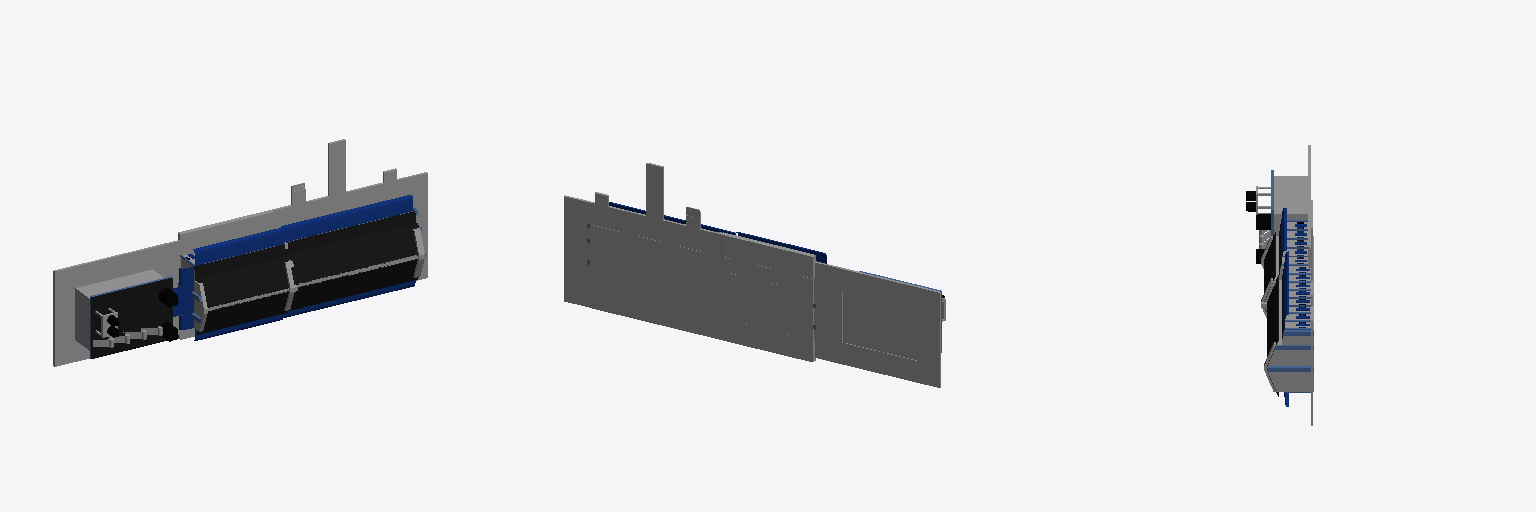
The picture shows the model from 3 angles: view 1: azimuth 30°, elevation 25°; view 2: azimuth 150°, elevation 25°; view 3: azimuth 270°, elevation 25°; orthographic projection.
Visible parts, largest first — view 1: roof_plane_Cube.018, Cube.002_Cube.021, roof_plane.003_Cube.005, roof_plane.001_Cube.015, Cube.014_Cube.036, Cube.011_Cube.030, helmet.001_BezierCurve.002, Cube.016_Cube.038, Cube.010_Cube.029, roof_plane.002_Cube.004, Cube.001_Cube.019, main_block_Cube.012 (+8 smaller); view 2: main_block.001_Cube.002, main_block.003_Cube.009, Cube.001_Cube.019, Cube.011_Cube.030, Cube.025_Cube.051, Cube.012_Cube.034, Cube.010_Cube.029, Cube.014_Cube.036, Cube.013_Cube.035, Cube.016_Cube.038, Cube.015_Cube.037, Cube.017_Cube.039 (+3 smaller); view 3: main_block.001_Cube.002, Cube.001_Cube.019, main_block_Cube.012, roof_plane_Cube.018, main_block.002_Cube.003.
Part boxes in pixels (x1,y1,x2,y2): roof_plane_Cube.018: (284, 223, 418, 284); Cube.002_Cube.021: (90, 276, 172, 358); roof_plane.003_Cube.005: (197, 256, 288, 307); roof_plane.001_Cube.015: (288, 259, 418, 310); Cube.014_Cube.036: (73, 241, 180, 288); Cube.011_Cube.030: (272, 178, 400, 227); helmet.001_BezierCurve.002: (281, 195, 413, 241); Cube.016_Cube.038: (53, 266, 75, 366); Cube.010_Cube.029: (178, 211, 270, 255); roof_plane.002_Cube.004: (197, 291, 288, 334); Cube.001_Cube.019: (75, 269, 163, 350); main_block_Cube.012: (285, 211, 415, 254); main_block.001_Cube.002: (590, 239, 723, 318); main_block.003_Cube.009: (724, 272, 813, 340); Cube.001_Cube.019: (843, 291, 918, 360); Cube.011_Cube.030: (591, 202, 718, 255); Cube.025_Cube.051: (564, 195, 590, 307); Cube.012_Cube.034: (591, 287, 717, 338); Cube.010_Cube.029: (723, 233, 815, 278); Cube.014_Cube.036: (814, 263, 921, 308); Cube.013_Cube.035: (718, 318, 815, 361); Cube.016_Cube.038: (919, 287, 940, 387); Cube.015_Cube.037: (815, 337, 921, 383); Cube.017_Cube.039: (814, 261, 842, 363); main_block.001_Cube.002: (1264, 280, 1313, 391); Cube.001_Cube.019: (1274, 176, 1307, 235); main_block_Cube.012: (1282, 265, 1313, 344); roof_plane_Cube.018: (1267, 275, 1278, 365); main_block.002_Cube.003: (1279, 222, 1307, 279).
Bounding box in the file's own units: 13.02 × 5.26 × 2.02.